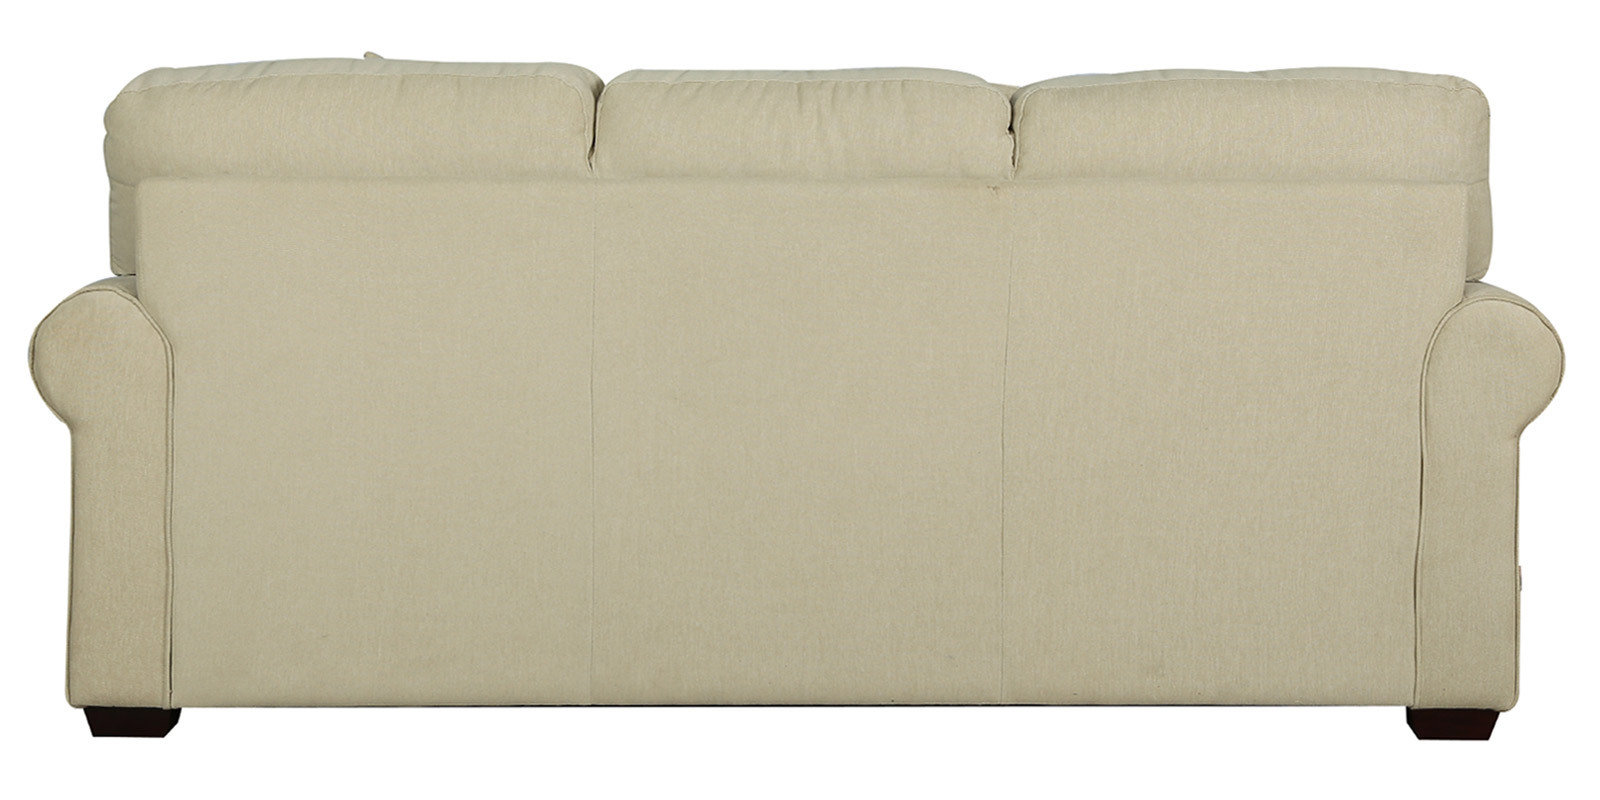Madeira Three Seater Sofa in Beige Colour by CasaCraft: (28, 50, 1569, 739)
